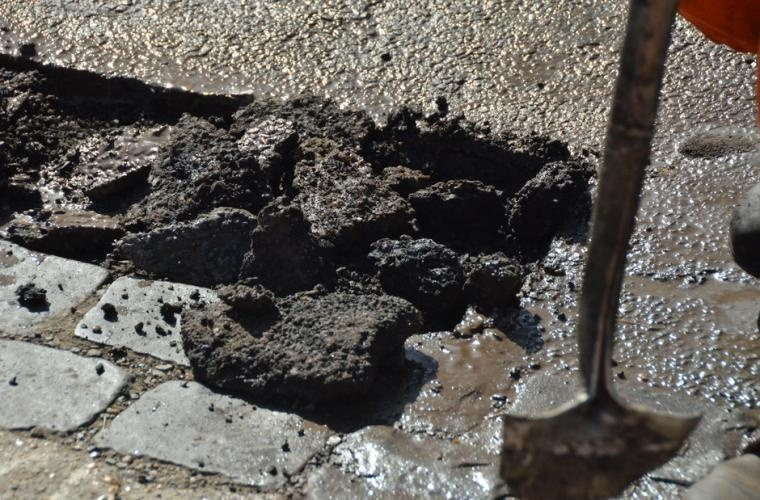pothole: (124, 28, 604, 434)
